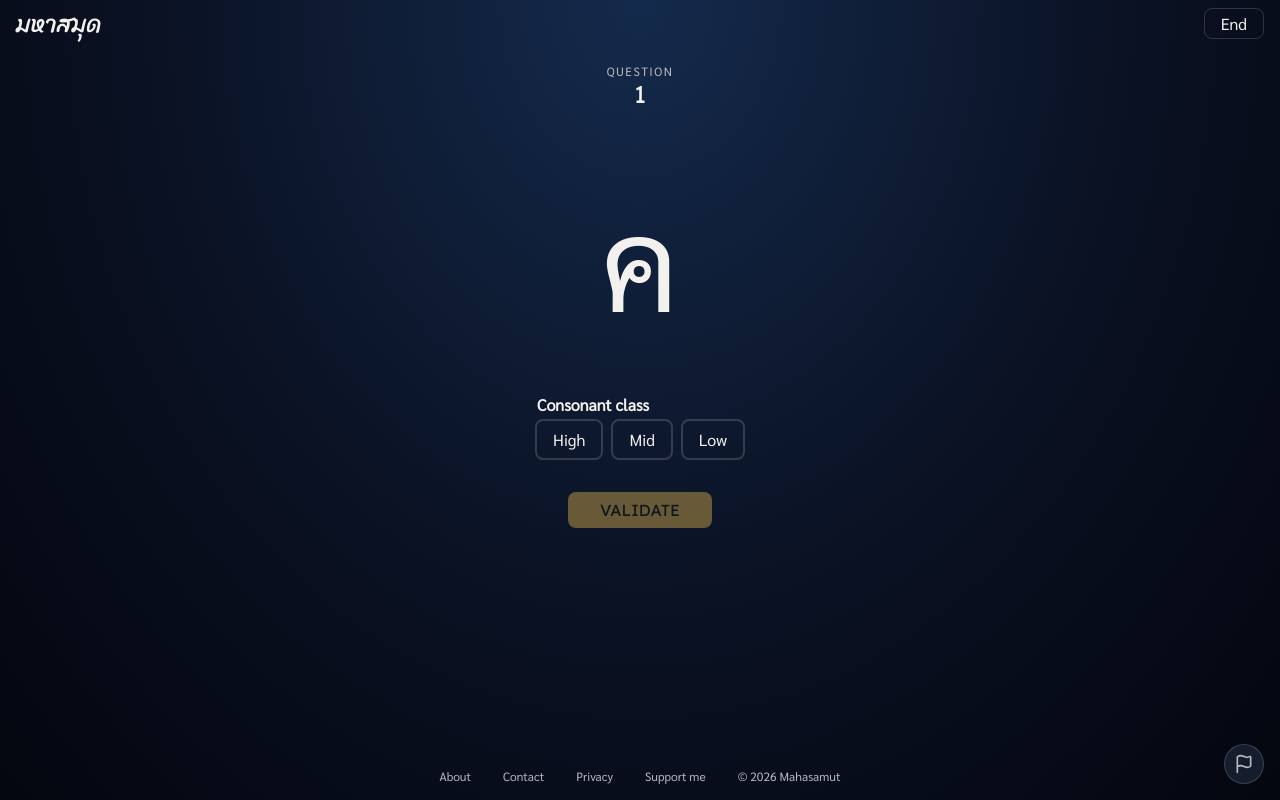
Scenario: leaving a game from the bar › asks before leaving a game once a question is answered; Keep playing stays
Step 1. Click the radio button labelled "High" → {"x": 569, "y": 439}, box [535,419,604,460]
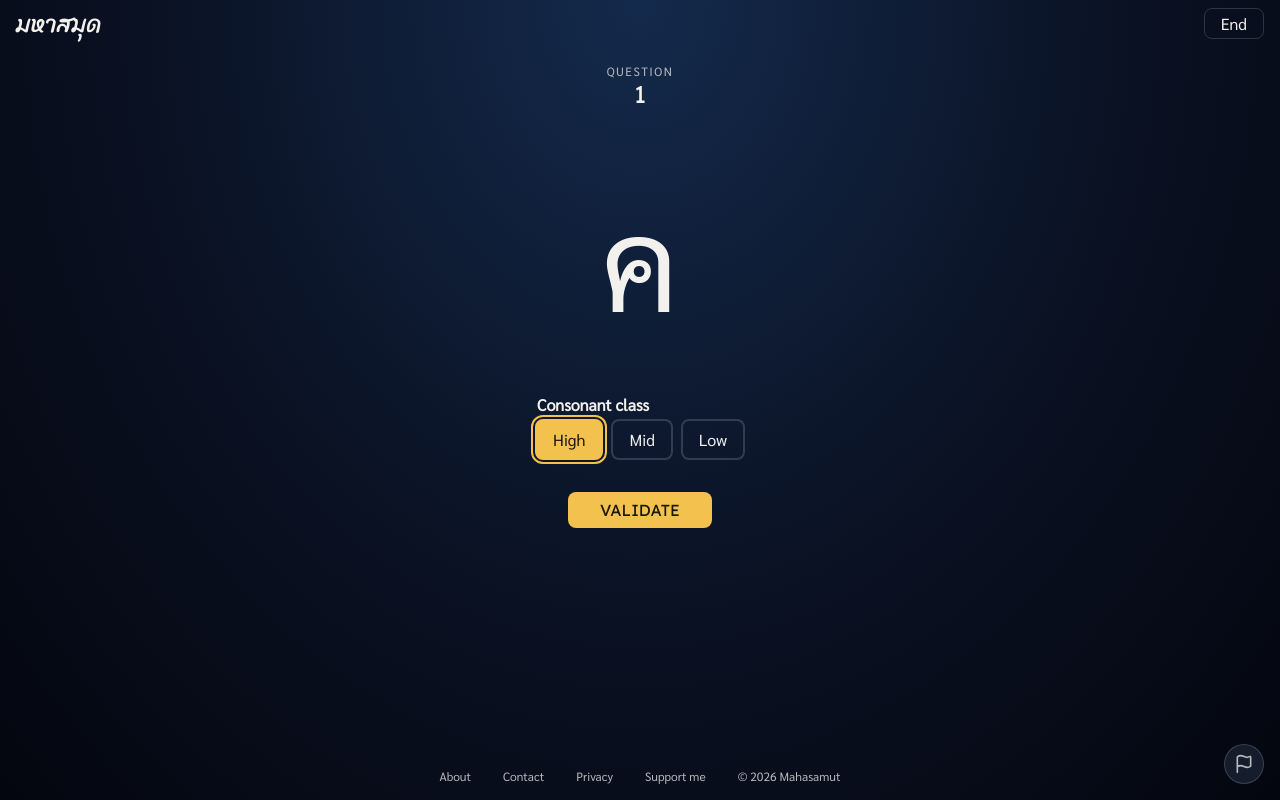
Step 2. Click the button "Validate" → {"x": 640, "y": 510}, box [568,492,712,528]
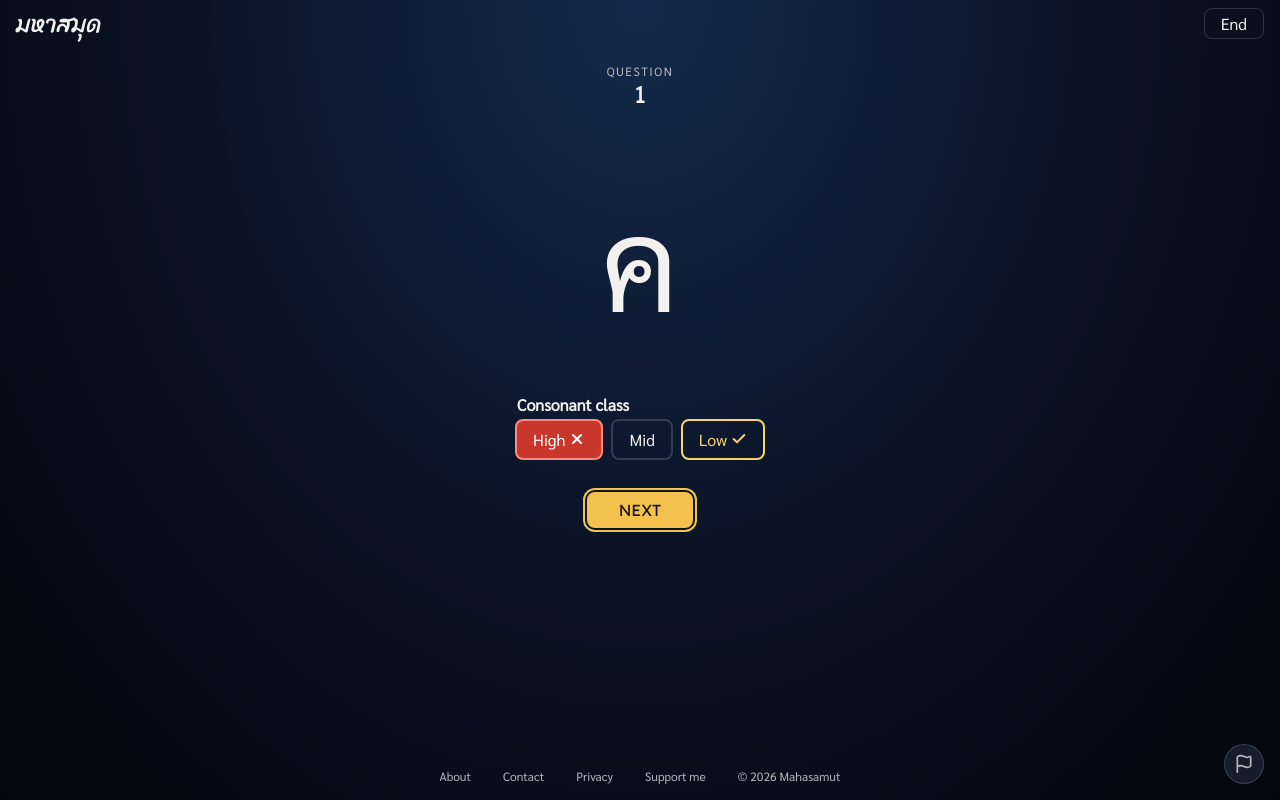
Step 3. Click the link named "Mahasamut" → {"x": 59, "y": 24}, box [16,8,101,38]
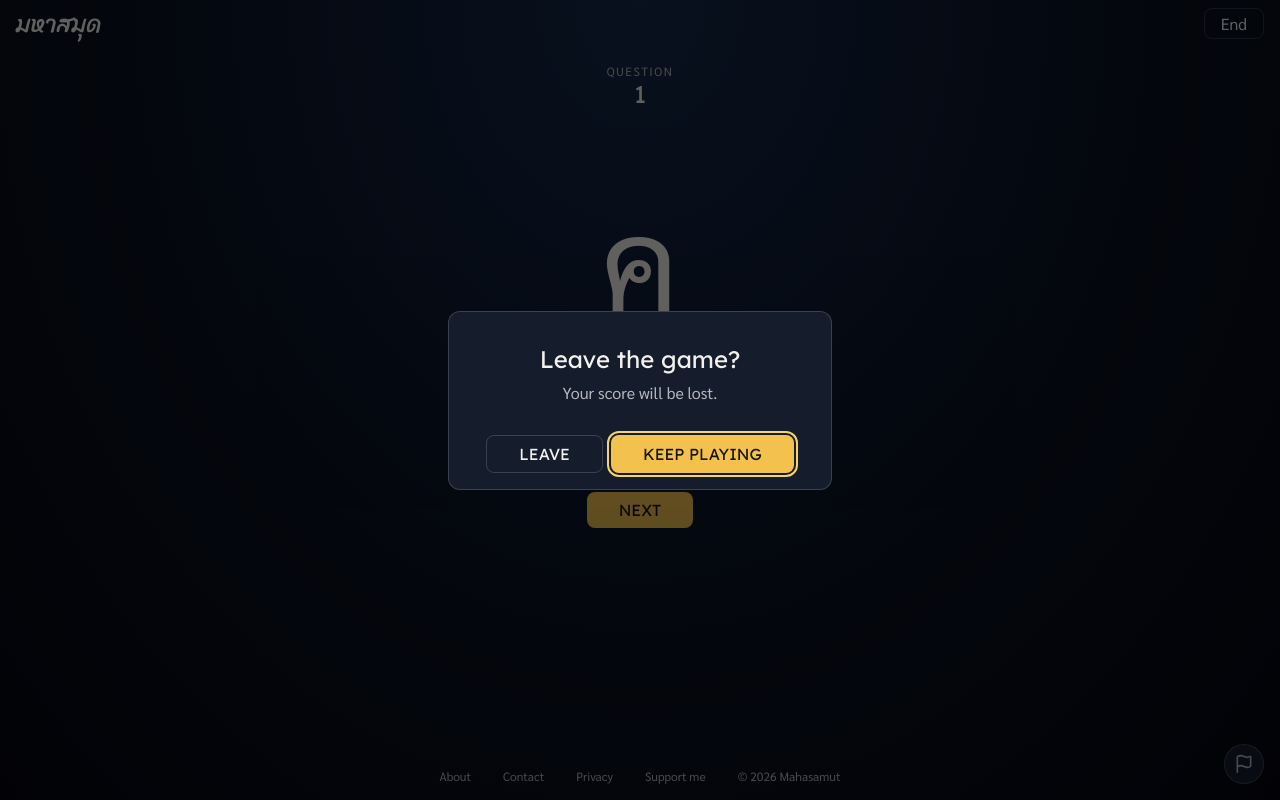
Check: the dialog "Leave the game?" is shown, box [448,310,832,490]
Check: the text "Your score will be lost." is shown, box [563,382,717,402]
Step 4. Click the button "Keep playing" → {"x": 702, "y": 454}, box [611,434,794,472]
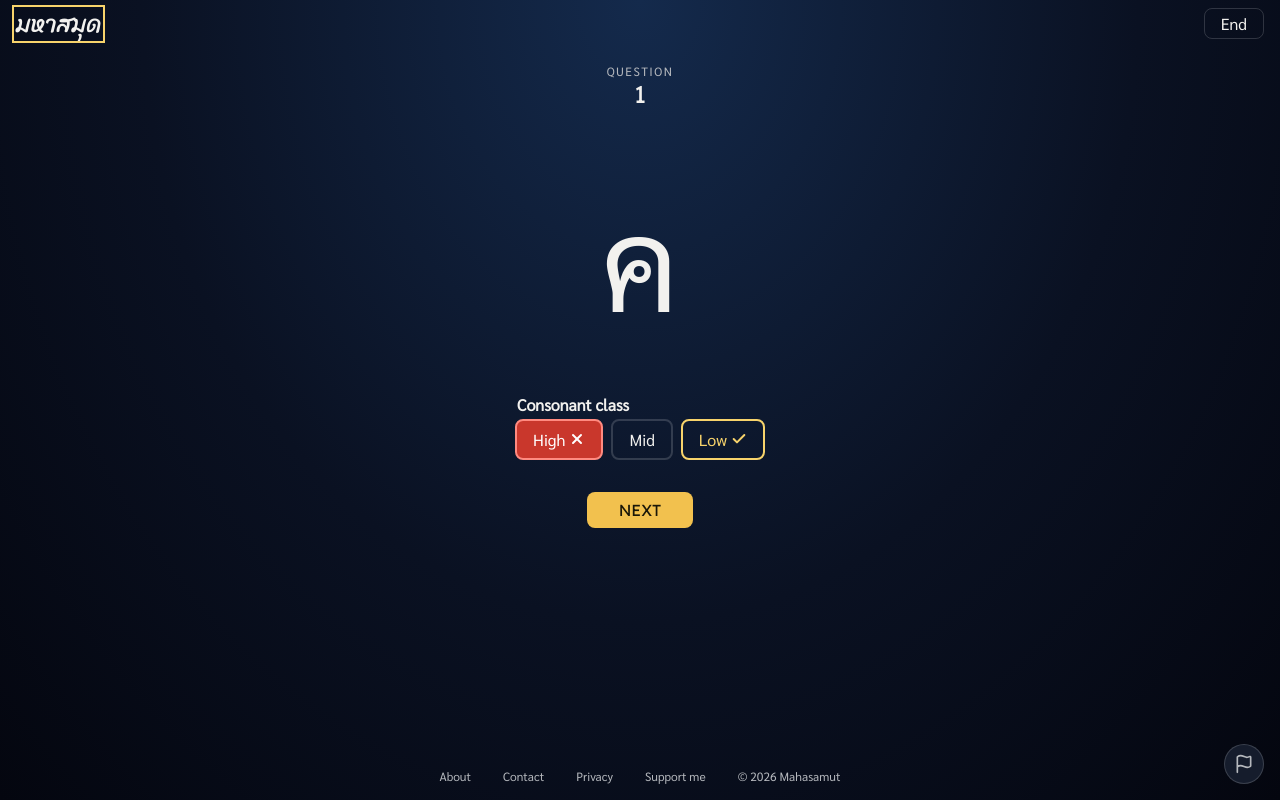
Check: the element "Consonant class" is shown, box [515,394,765,460]
Check: the heading "Leave the game?" is gone
